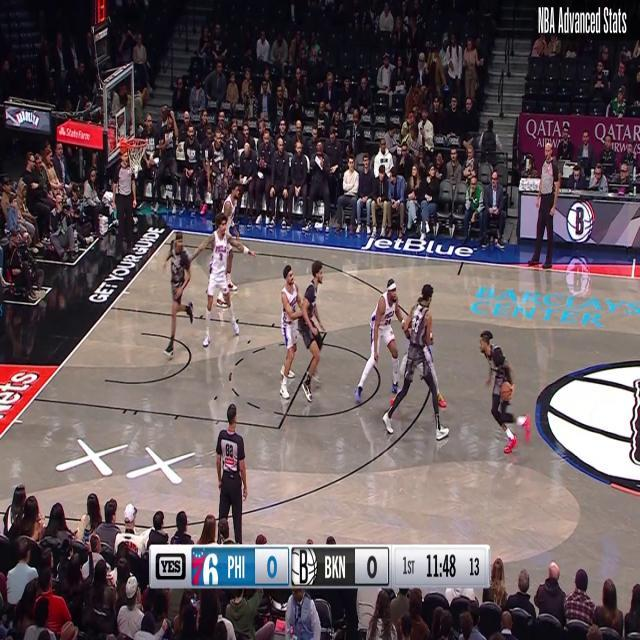ball: (496, 372, 518, 406)
player: (380, 282, 450, 442), (200, 210, 256, 348), (354, 276, 408, 406), (478, 328, 532, 456), (161, 229, 204, 360), (298, 258, 326, 404), (278, 263, 304, 401), (214, 180, 242, 294)
